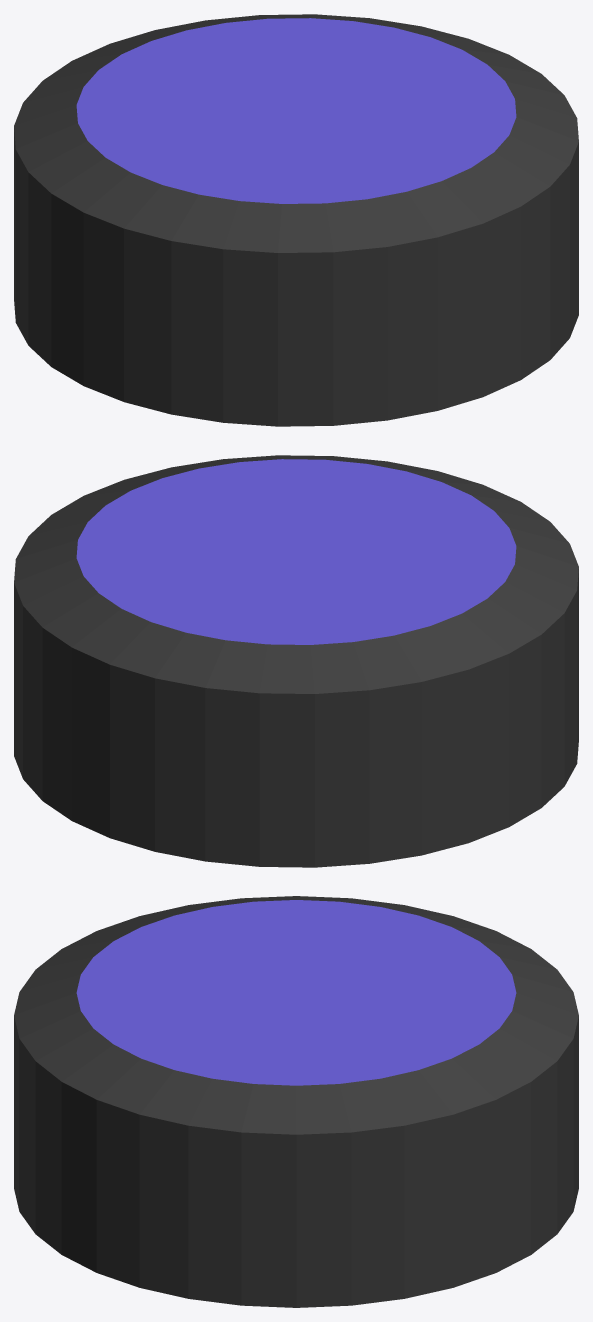
Rendered from lidar.dae.
3 renders of one model, top to bottom at view 1: azimuth 30°, elevation 25°; view 2: azimuth 150°, elevation 25°; view 3: azimuth 270°, elevation 25°, orthographic.
Visible parts, largest first — view 1: Cylinder; view 2: Cylinder; view 3: Cylinder.
Boxes of the visible parts, <box> form: Cylinder: <box>14,14,578,426</box>; Cylinder: <box>14,455,578,867</box>; Cylinder: <box>14,896,578,1307</box>.
Bounding box in the file's own units: 0.1 × 0.1 × 0.04.
